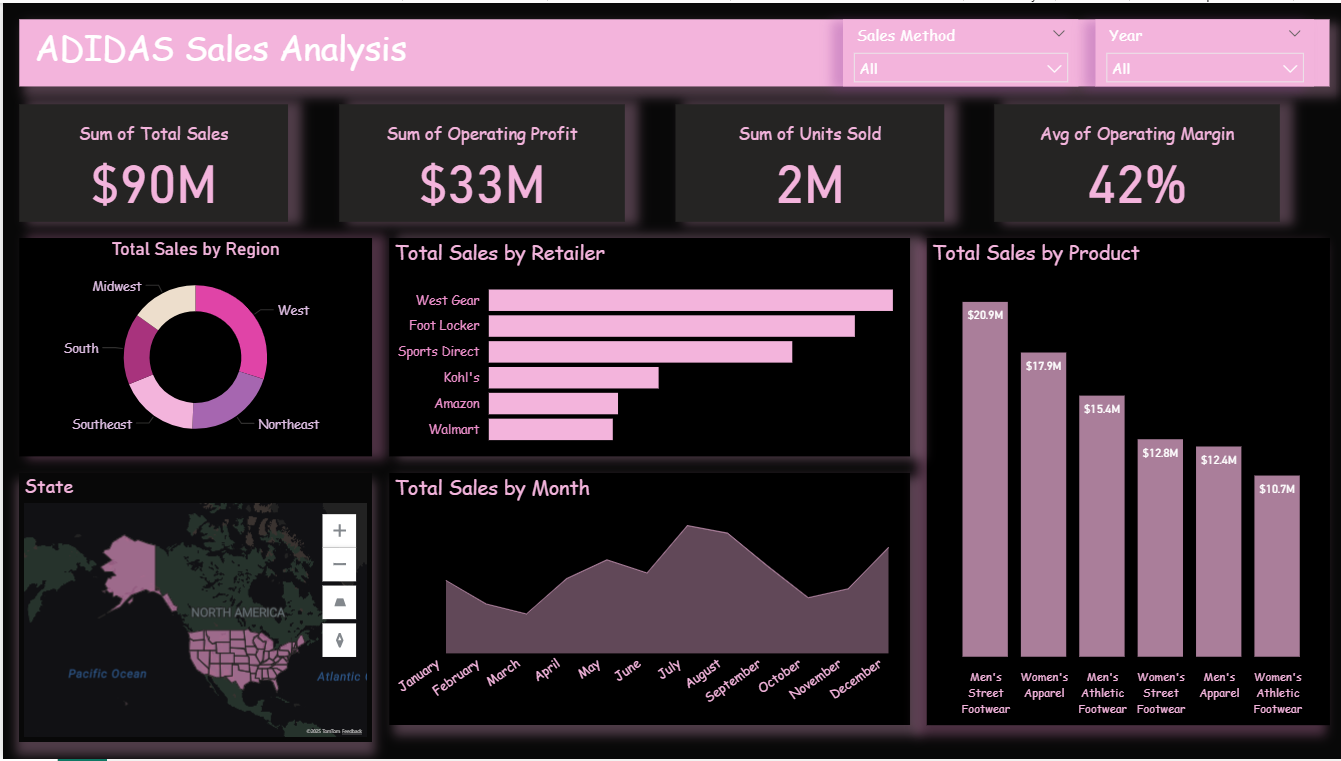

The page's visual inventory and layout, read from the dashboard file:
{"tool":"powerbi","page":{"name":"Page 1","canvas":[1280,720],"ordinal":0},"visuals":[{"type":"shape","box":[16,16,1248,64],"z":0},{"type":"textbox","box":[16,16,384,64],"z":1000},{"type":"cardVisual","fields":{"Data":["Sum(Data.Total Sales)"]},"box":[16,96,256,112],"z":2000},{"type":"cardVisual","fields":{"Data":["Sum(Data.Operating Profit)"]},"box":[320,96,272,112],"z":4000},{"type":"cardVisual","title":"Avg of Operating Margin","fields":{"Data":["Avg(Data.Operating Margin)"]},"box":[944,96,272,112],"z":5000},{"type":"cardVisual","fields":{"Data":["Sum(Data.Units Sold)"]},"box":[640,96,256,112],"z":6000},{"type":"areaChart","title":"Total Sales by Month","fields":{"Category":["Data.Invoice Date.Variation.Date Hierarchy.Month"],"Y":["Sum(Data.Total Sales)"]},"box":[368,448,496,240],"z":7000},{"type":"azureMap","title":"State","fields":{"Category":["Data.State"]},"box":[16,448,336,256],"z":8000},{"type":"donutChart","title":"Total Sales by Region","fields":{"Y":["Sum(Data.Total Sales)"],"Category":["Data.Region"]},"box":[16,224,336,208],"z":9000},{"type":"clusteredColumnChart","title":"Total Sales by Product","fields":{"Category":["Data.Product"],"Y":["Sum(Data.Total Sales)"]},"box":[880,224,384,464],"z":10000},{"type":"clusteredBarChart","title":"Total Sales by Retailer","fields":{"Y":["Sum(Data.Total Sales)"],"Category":["Data.Retailer"]},"box":[368,224,496,208],"z":11000},{"type":"slicer","fields":{"Values":["Data.Sales Method"]},"box":[800,16,224,64],"z":12000},{"type":"slicer","fields":{"Values":["Data.Invoice Date.Variation.Date Hierarchy.Year"]},"box":[1040,16,208,64],"z":13000}]}

Visuals, with their boxes in screenshot pixels (x1, y1, x2, y2), scaled from the page's 1280x720 canvas onto the 1341x761 screenshot:
shape: 17 17 1324 85
textbox: 17 17 419 85
cardVisual - Sum(Data.Total Sales): 17 101 285 220
cardVisual - Sum(Data.Operating Profit): 335 101 620 220
"Avg of Operating Margin" cardVisual: 989 101 1274 220
cardVisual - Sum(Data.Units Sold): 670 101 939 220
"Total Sales by Month" areaChart: 386 474 905 727
"State" azureMap: 17 474 369 744
"Total Sales by Region" donutChart: 17 237 369 457
"Total Sales by Product" clusteredColumnChart: 922 237 1324 727
"Total Sales by Retailer" clusteredBarChart: 386 237 905 457
slicer - Data.Sales Method: 838 17 1073 85
slicer - Data.Invoice Date.Variation.Date Hierarchy.Year: 1090 17 1307 85
